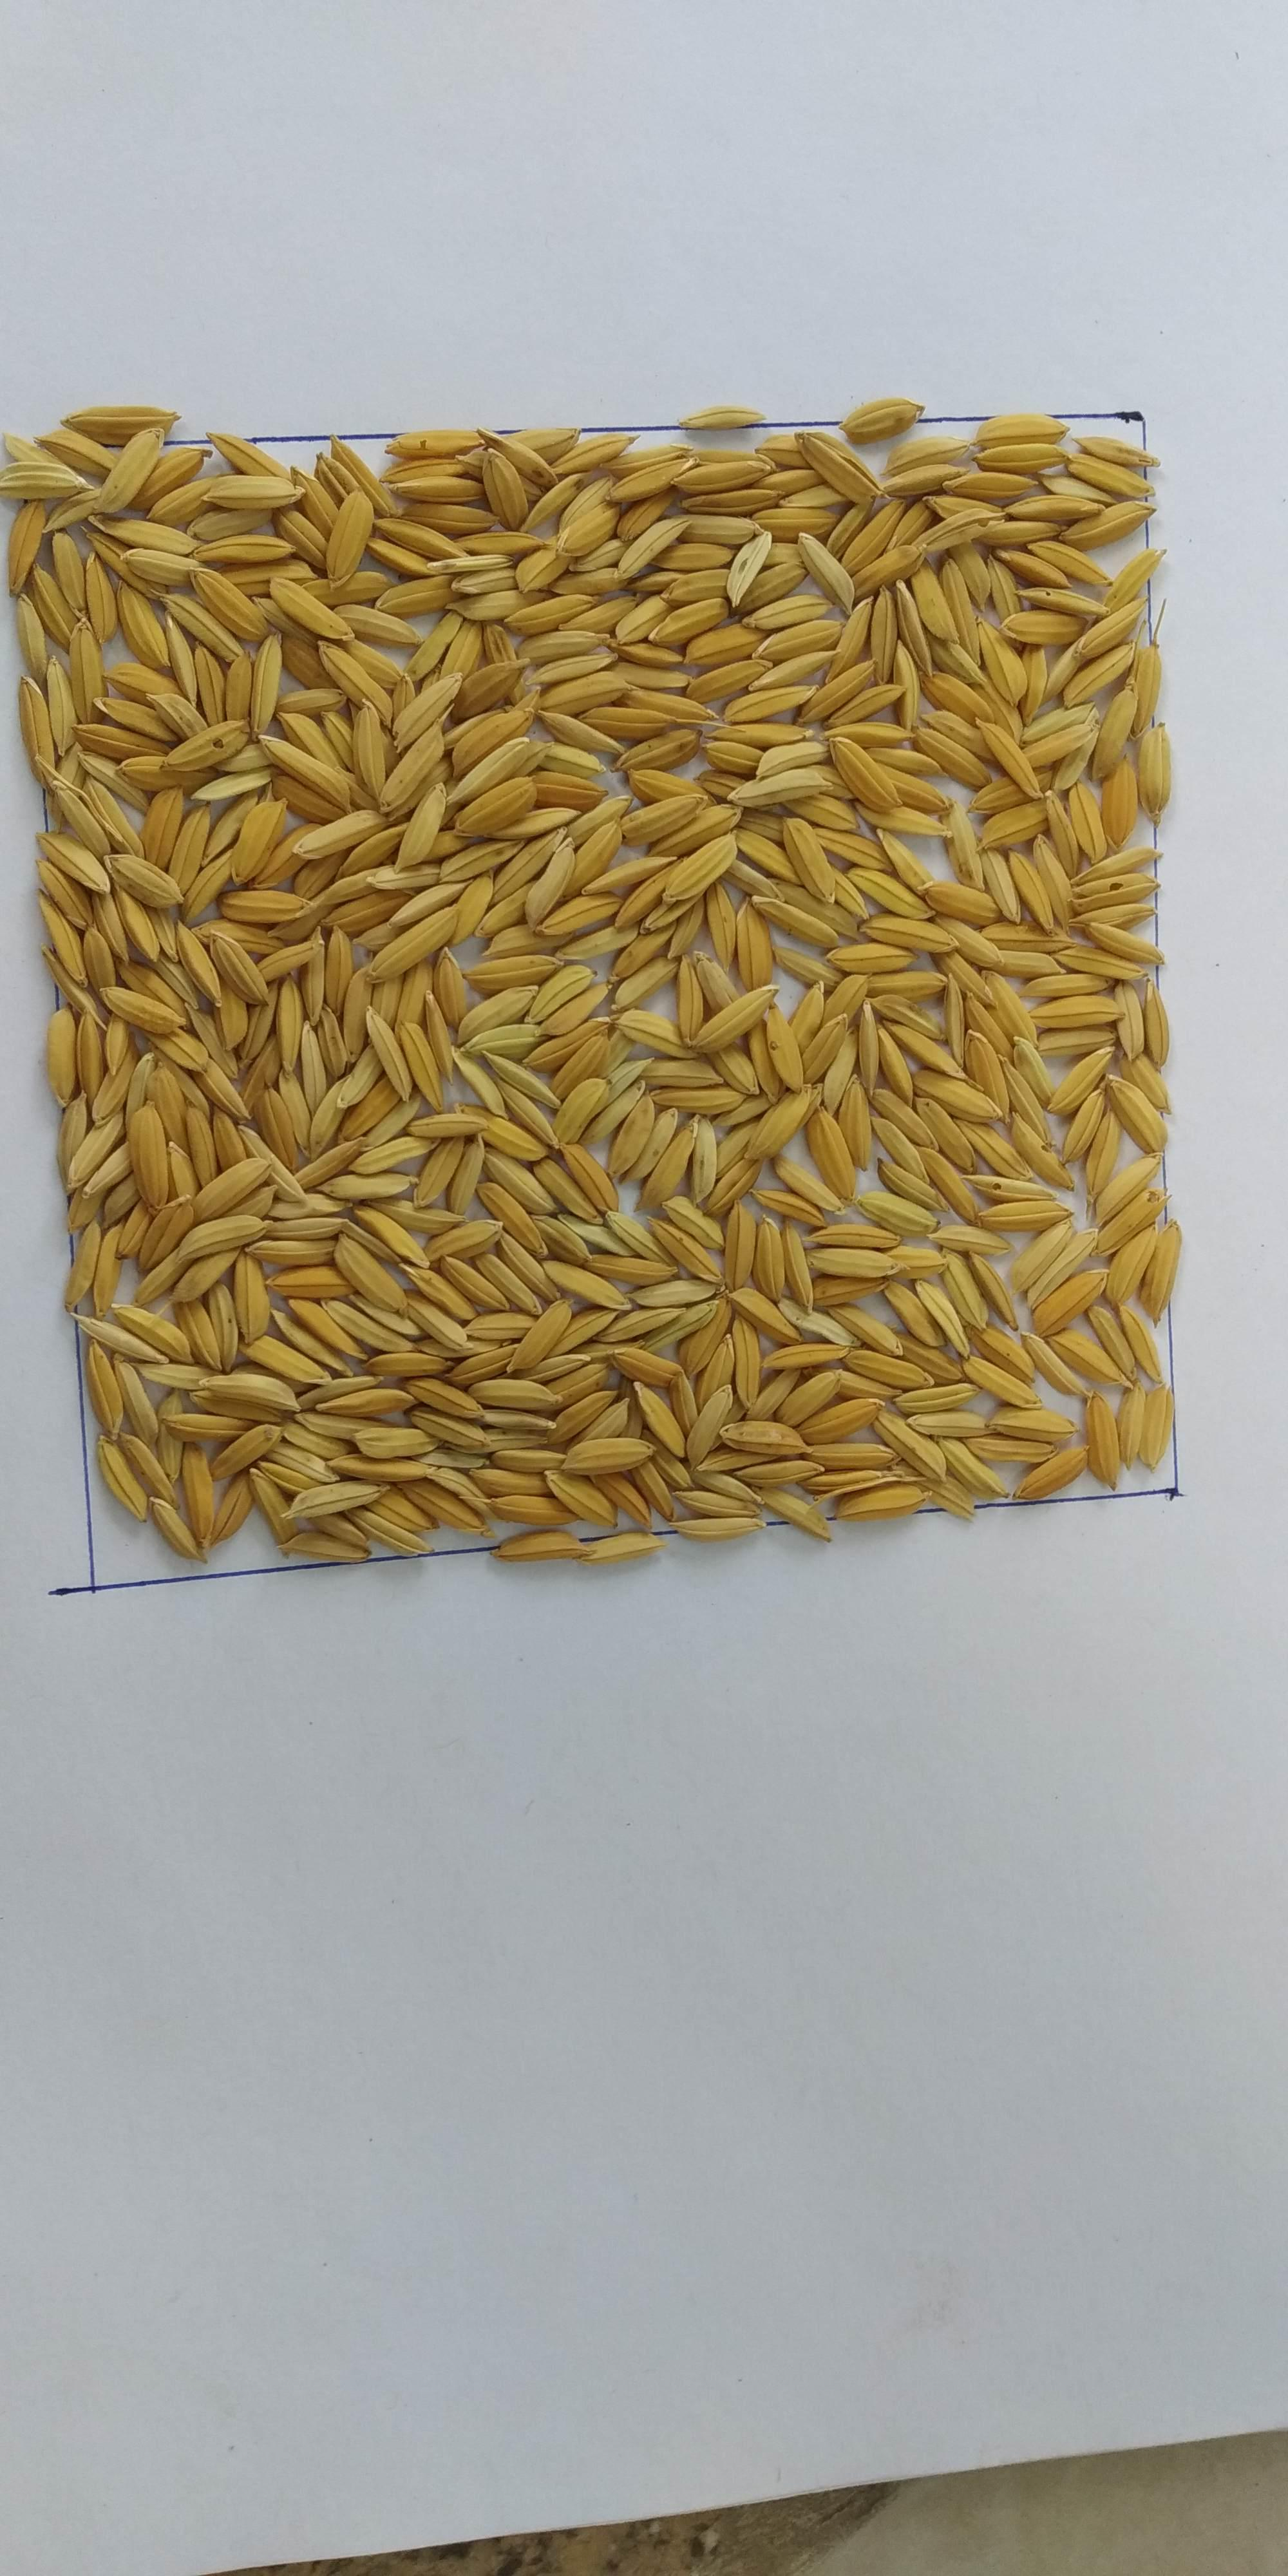pure: (87, 447, 1111, 1475)
